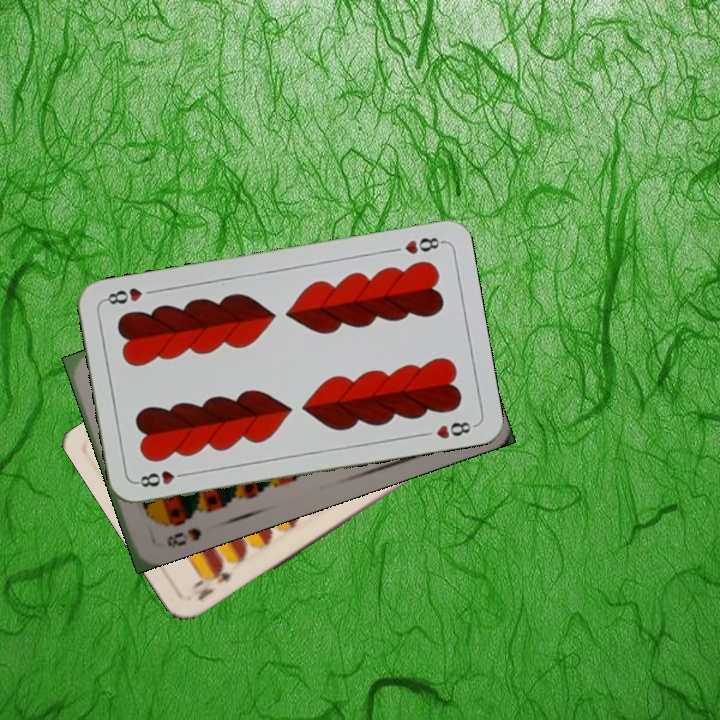E10: (189, 561, 236, 604)
H8: (133, 466, 192, 490), (401, 233, 446, 257)
S8: (162, 523, 204, 551)
